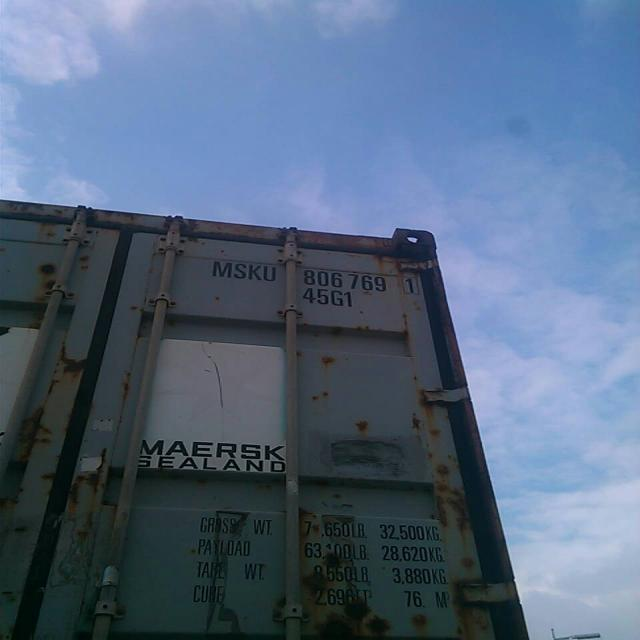rust: (304, 596, 396, 640), (428, 460, 477, 538), (373, 228, 445, 281), (450, 577, 496, 640), (293, 230, 368, 255), (2, 202, 72, 221), (34, 261, 68, 295), (98, 207, 154, 223), (321, 550, 348, 572), (308, 388, 335, 408), (354, 417, 378, 438), (407, 610, 433, 629), (318, 355, 340, 372), (410, 413, 426, 435), (460, 557, 477, 573), (429, 426, 447, 440)
